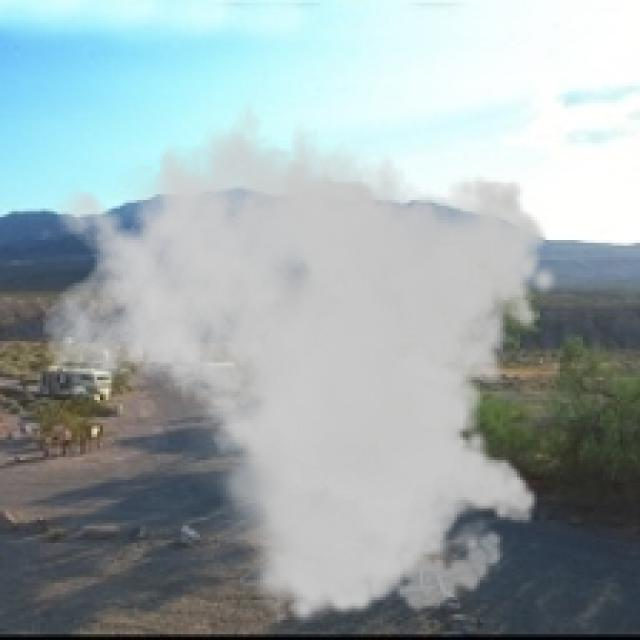Smoke: (40, 83, 560, 626)
